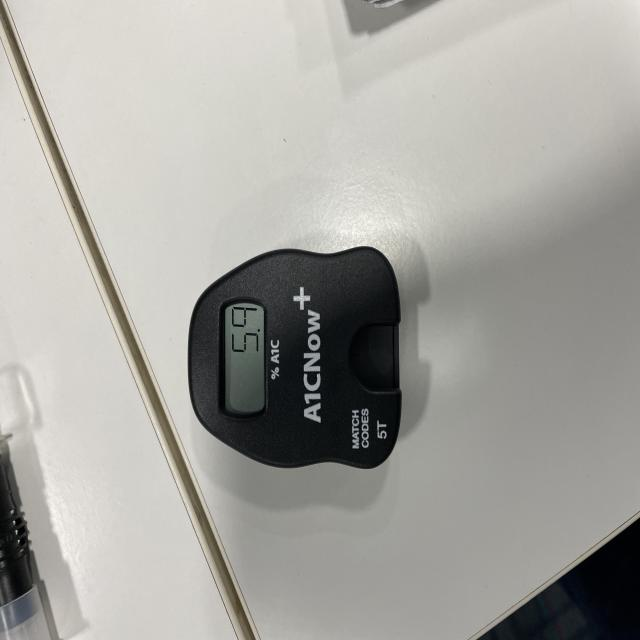hba1c: (186, 247, 406, 474)
